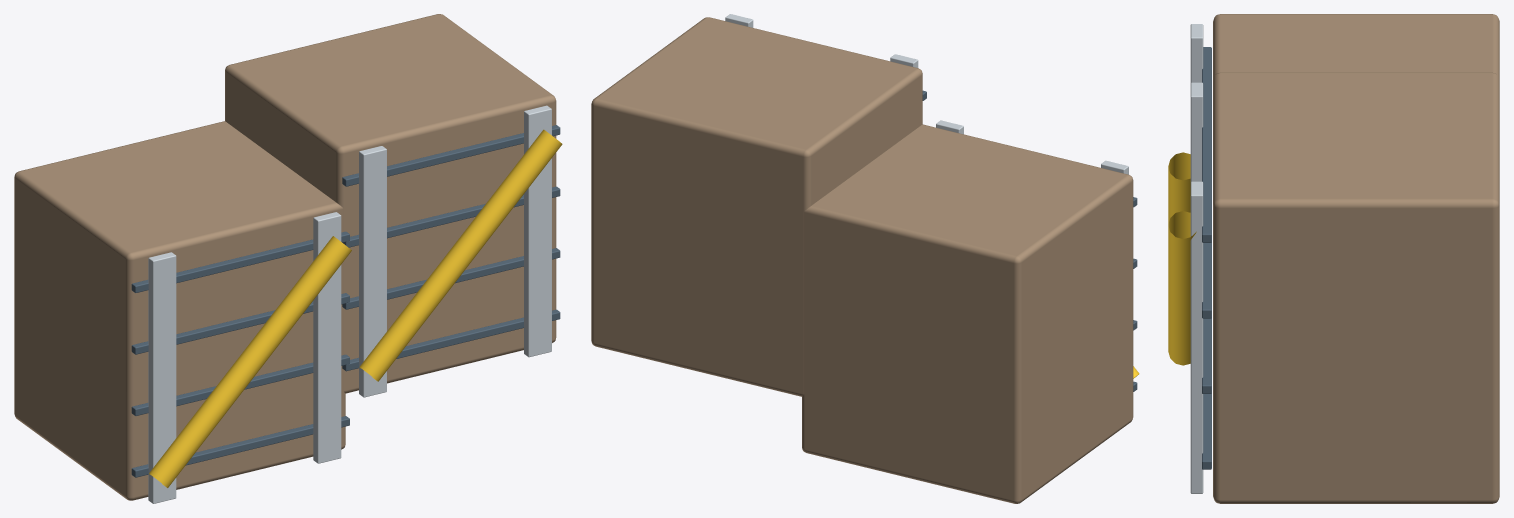
The model's file is fire-obstruction.glb.
3 renders of one model, left to right at view 1: azimuth 30°, elevation 25°; view 2: azimuth 150°, elevation 25°; view 3: azimuth 270°, elevation 25°, orthographic. The views are drawn at different scales.
Visible parts, largest first — view 1: fire-obstruction; view 2: fire-obstruction; view 3: fire-obstruction.
Part boxes in pixels (x1,y1,x2,y2): fire-obstruction: (14, 14, 562, 503); fire-obstruction: (591, 14, 1139, 503); fire-obstruction: (1168, 14, 1499, 503).
Bounding box in the file's own units: 0.49 × 0.33 × 0.266.
